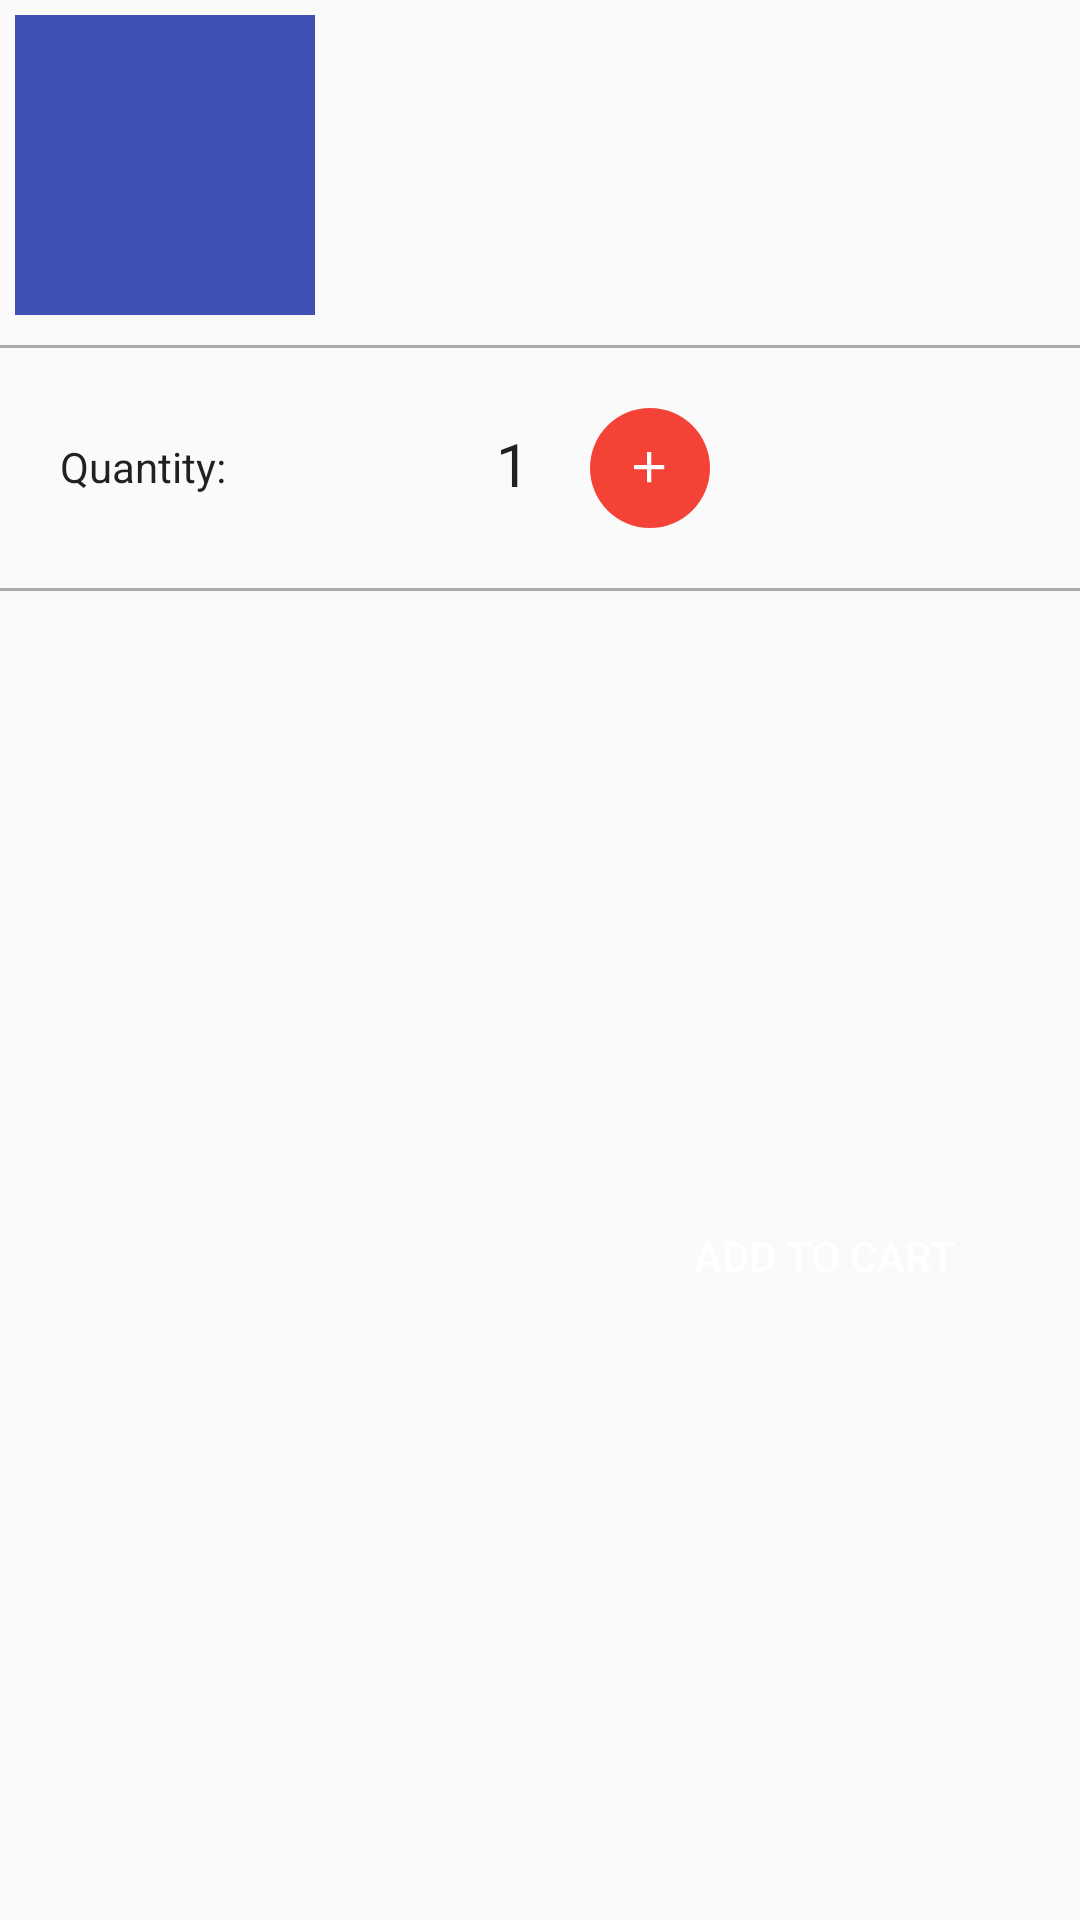

Icons on this 1080px x 1920px Android screen, each with its box as [x1,y1,x2,y2]:
circle plus: [590,408,710,528]
